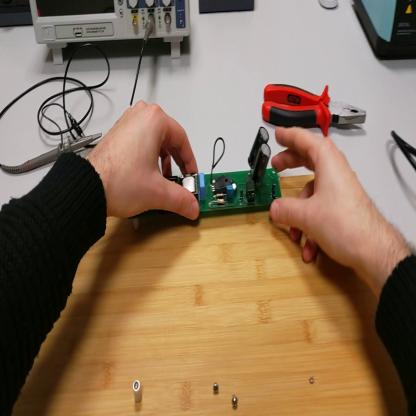hand: (270, 124, 375, 273), (94, 99, 201, 228)
high voltage board: (128, 125, 282, 220)
oscilloscope: (30, 2, 191, 68)
oscilloscope probe tip: (13, 128, 103, 176)
pliers: (263, 80, 368, 140)
socket: (2, 1, 34, 27)
welder station: (354, 1, 416, 62)
working area: (16, 180, 410, 416)
